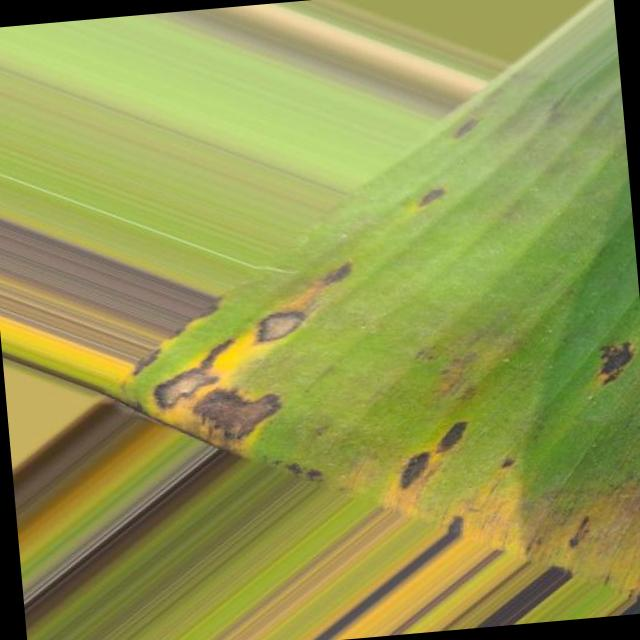Banana_Black_Sigatoka: (95, 221, 640, 606)
